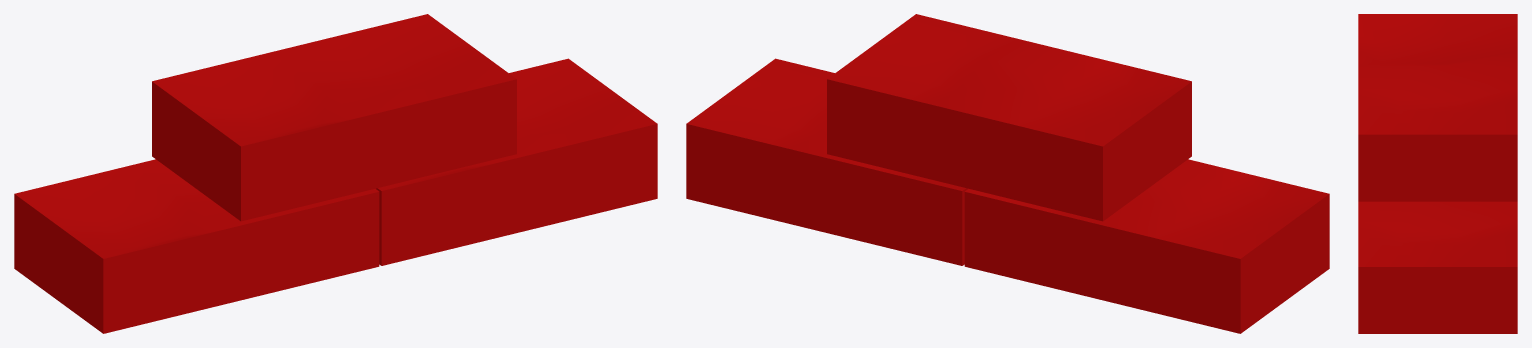
The model's file is arcilla.fbx.
The picture shows the model from 3 angles, left to right: view 1: azimuth 30°, elevation 25°; view 2: azimuth 150°, elevation 25°; view 3: azimuth 270°, elevation 25°; orthographic projection. The views are drawn at different scales.
Parts seen in each view (by area): view 1: pCube4, pCube5, pCube6; view 2: pCube4, pCube5, pCube6; view 3: pCube4, pCube6.
Boxes of the visible parts, x1=… form: pCube4: x1=152, y1=14, x2=516, y2=221; pCube5: x1=14, y1=159, x2=379, y2=333; pCube6: x1=376, y1=58, x2=657, y2=265; pCube4: x1=827, y1=14, x2=1191, y2=221; pCube5: x1=964, y1=159, x2=1329, y2=333; pCube6: x1=686, y1=58, x2=967, y2=265; pCube4: x1=1358, y1=14, x2=1517, y2=201; pCube6: x1=1358, y1=201, x2=1517, y2=333.
Bounding box in the file's own units: 3.59 × 0.9528 × 1.
